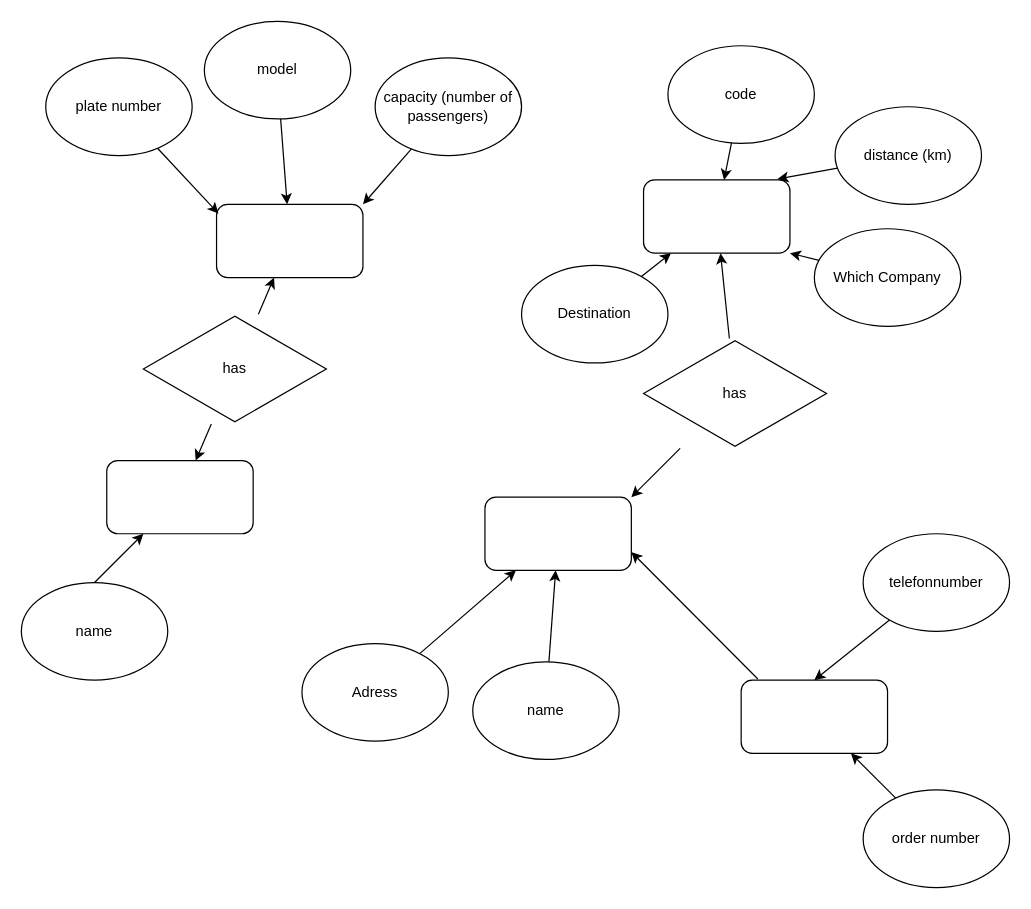
Image size: 1031x909. Some labels were removed from this diagram. Each missing label, with the centre of its shape:
Buses: the point at 289,240
Busstation: the point at 814,716
Citys: the point at 557,533
Driver: the point at 179,496
Routes: the point at 716,216
